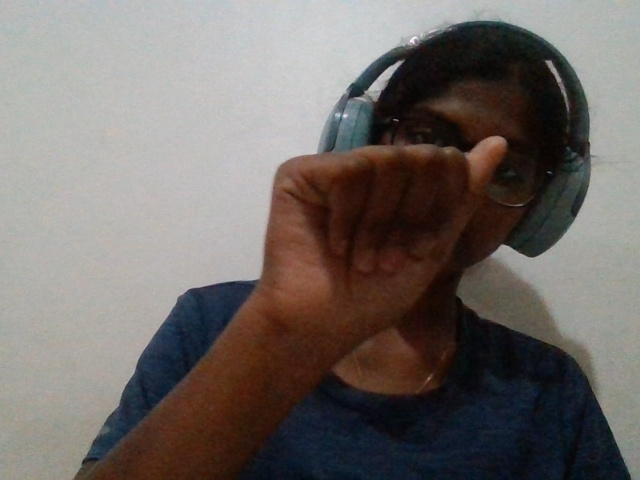A: (226, 122, 518, 384)
